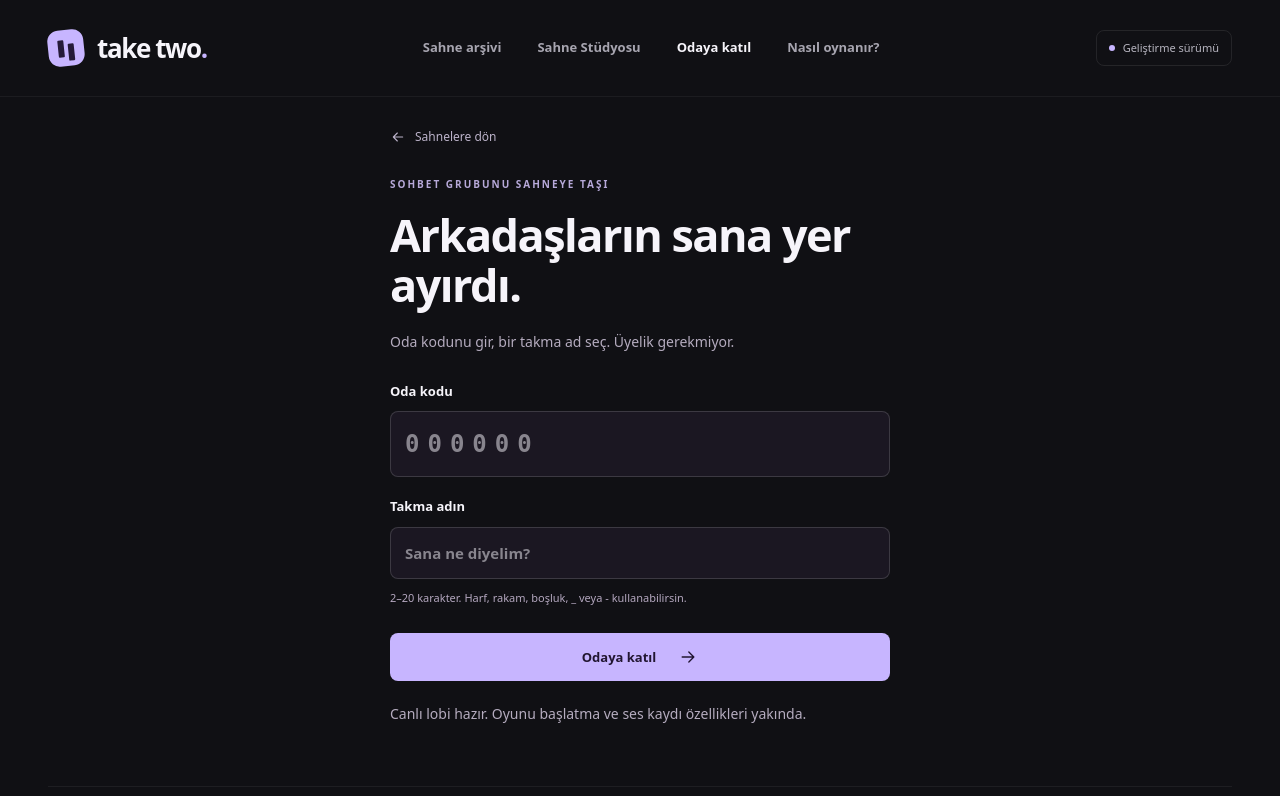
Test: room entry › validates room input before making a request
Type "Guest" into the field labelled "Takma adın".
click(640, 553); type("Guest")  # box [390,527,890,580]
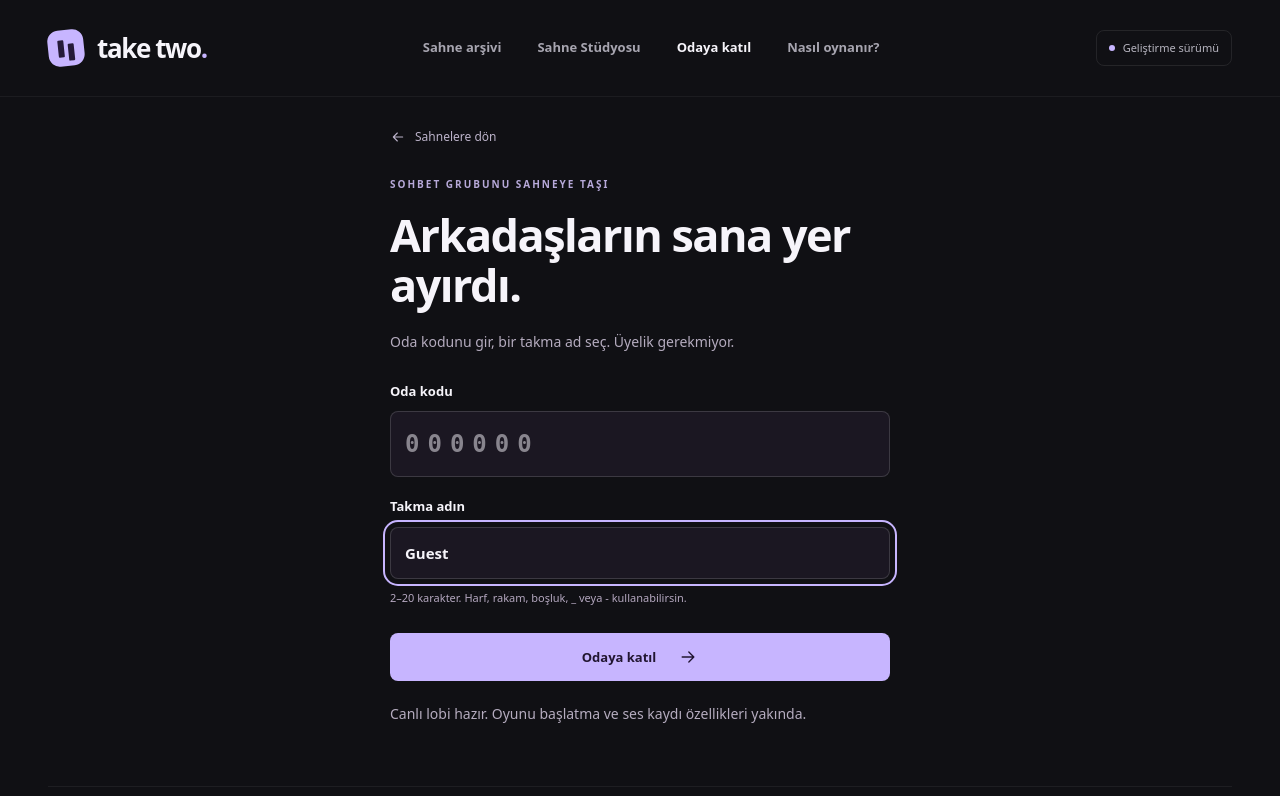
Type "123" into the field labelled "Oda kodu".
click(640, 444); type("123")  # box [390,412,890,478]
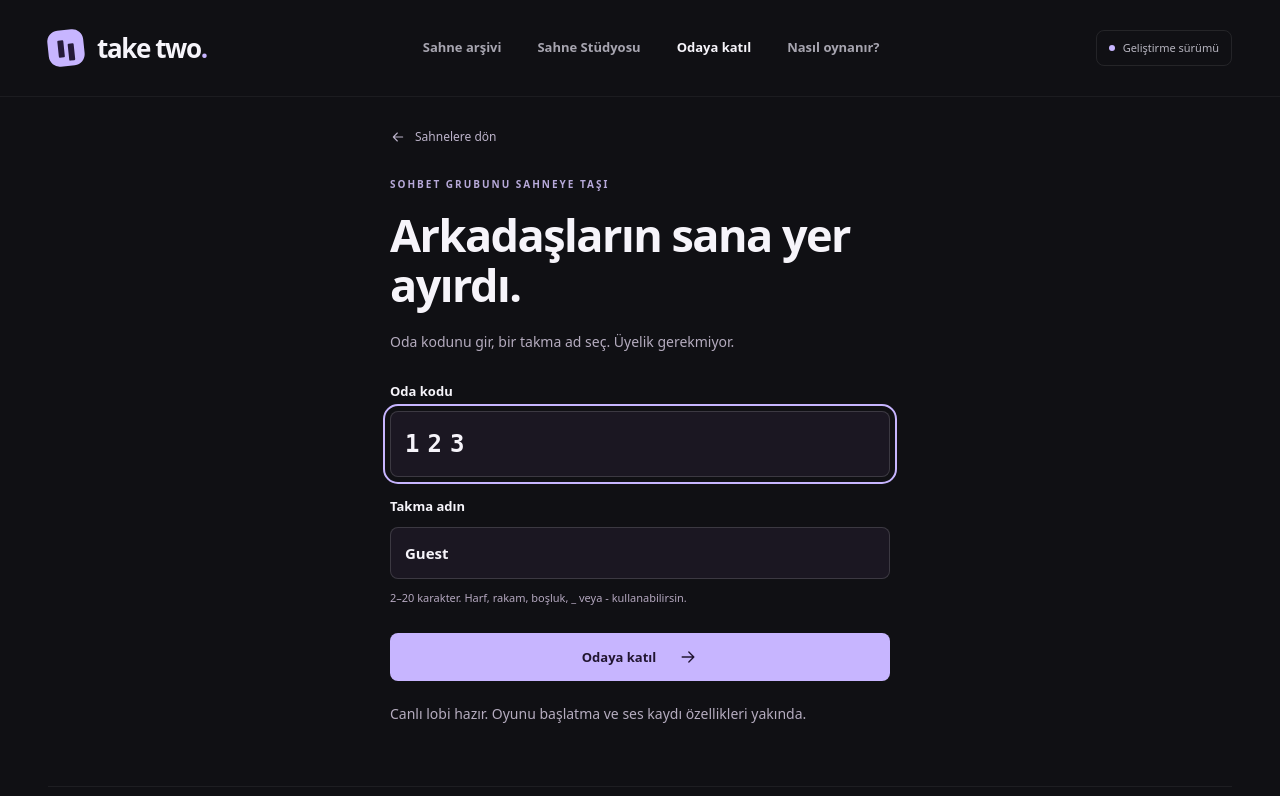
Click the button "Odaya katıl".
click(640, 657)  # box [390,633,890,681]
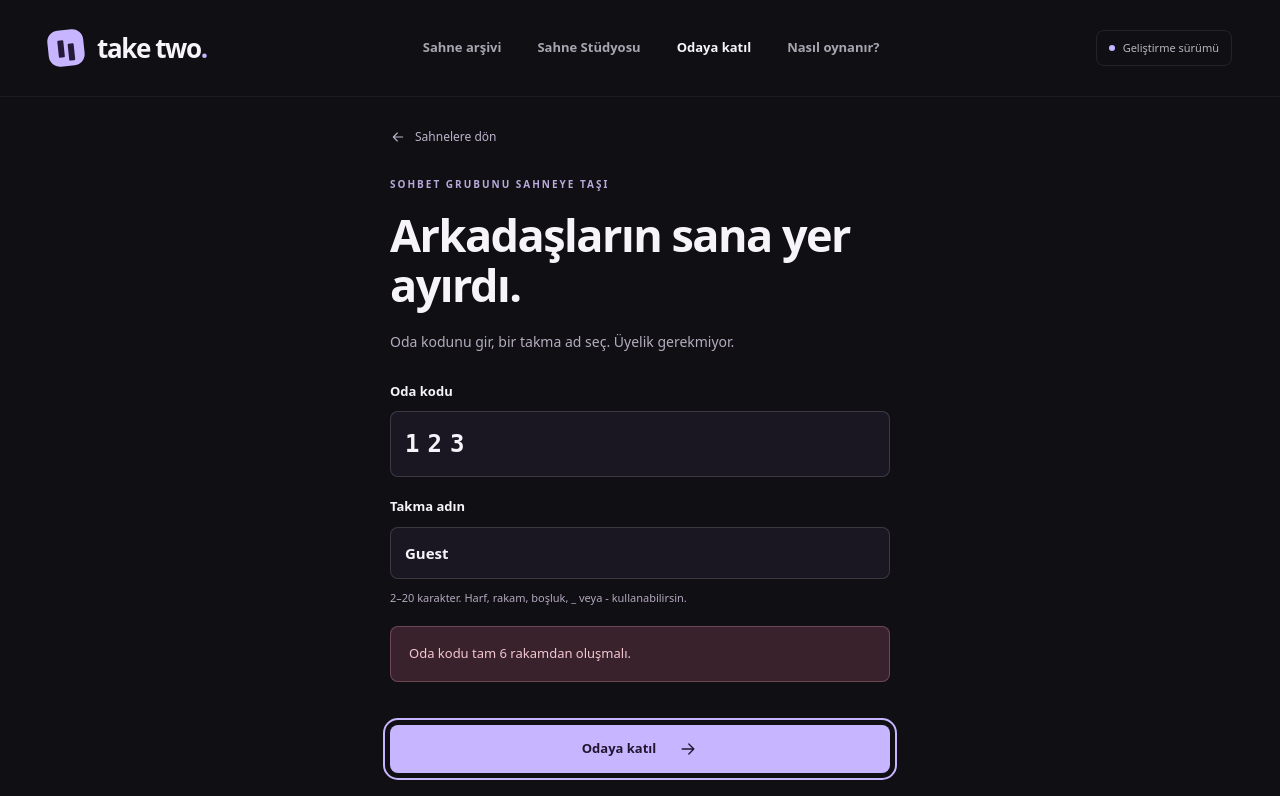
Expected: the message shows "tam 6 rakam", [409,644,631,662]
